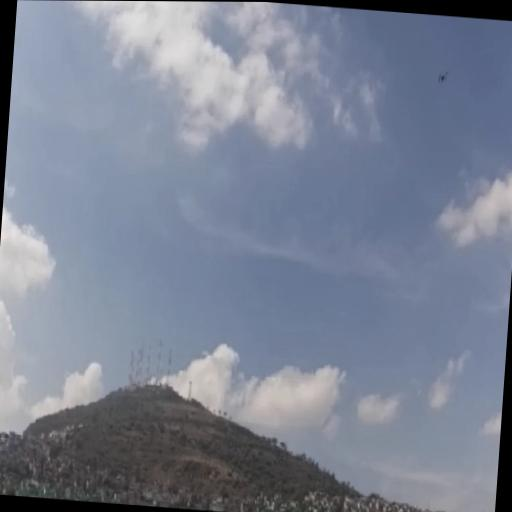drones: (434, 69, 450, 88)
